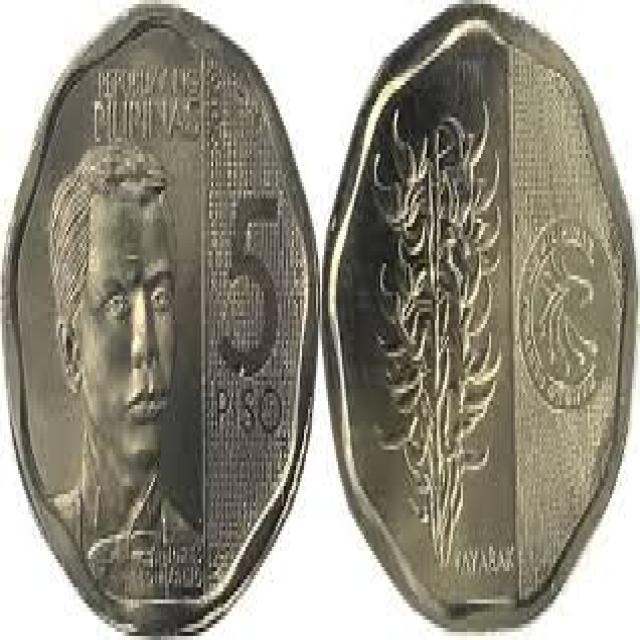5 peso: (5, 9, 322, 640), (327, 7, 640, 640)
